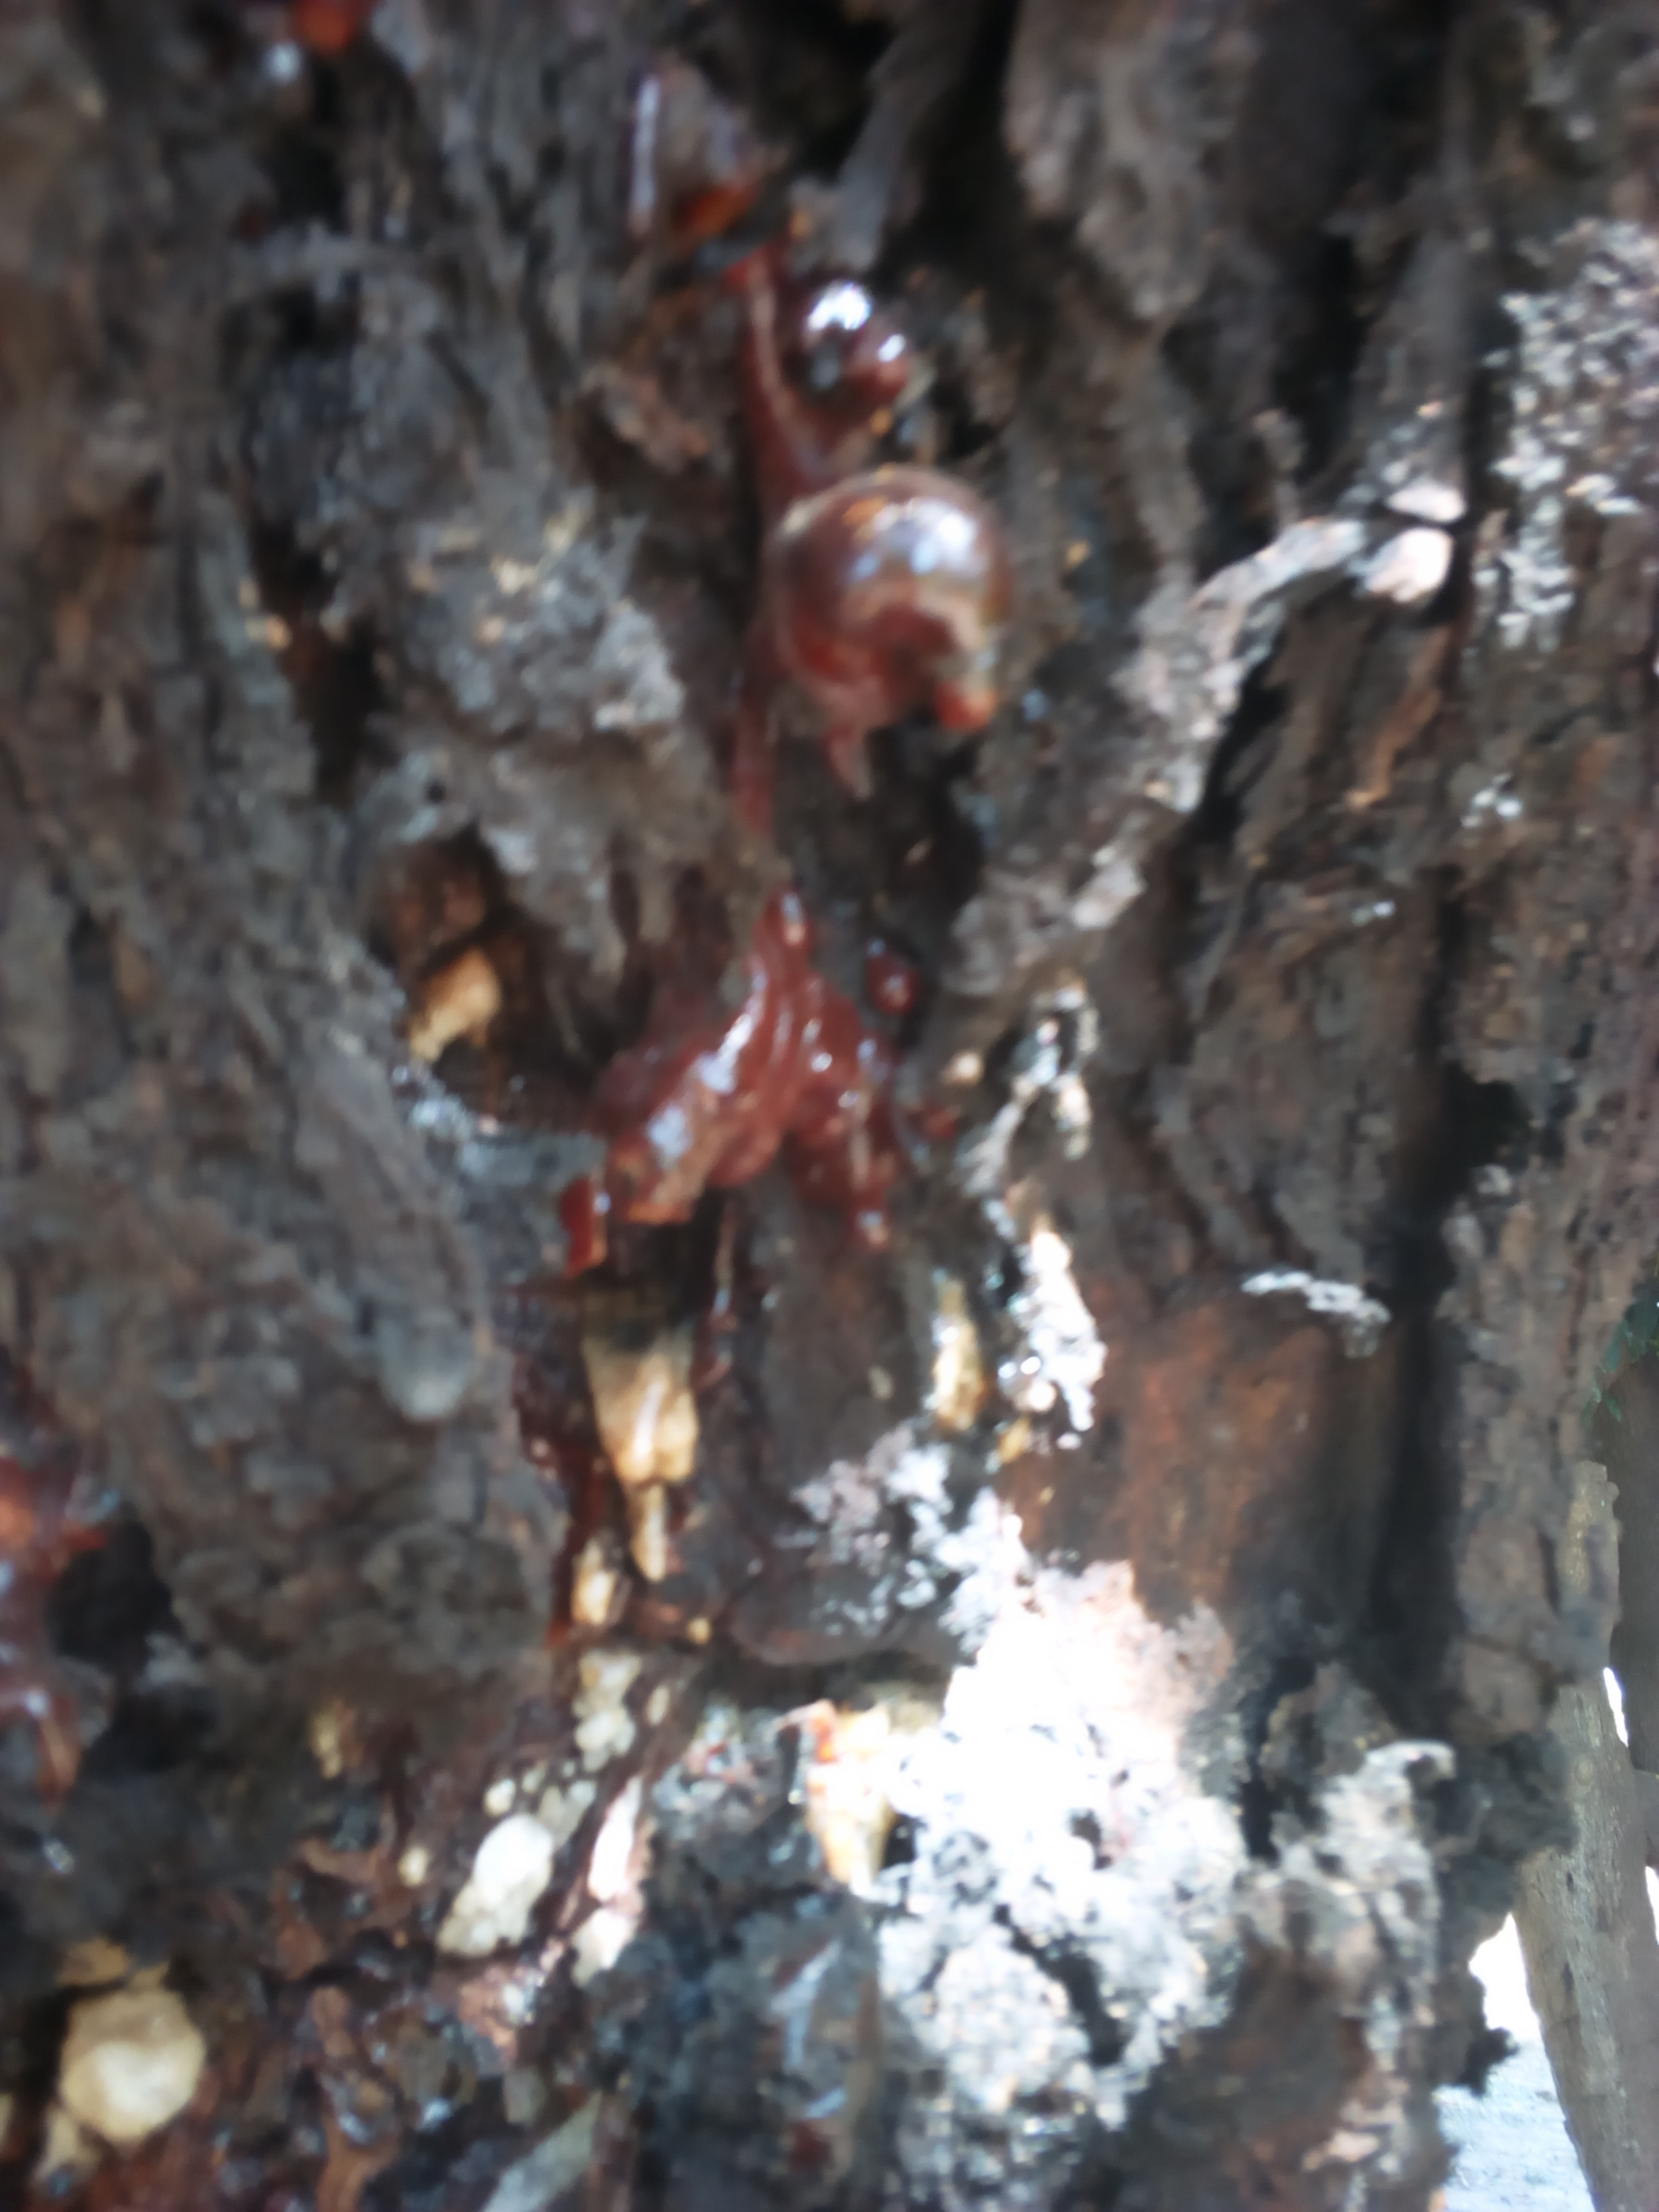Gommose: (141, 89, 1053, 1622)
